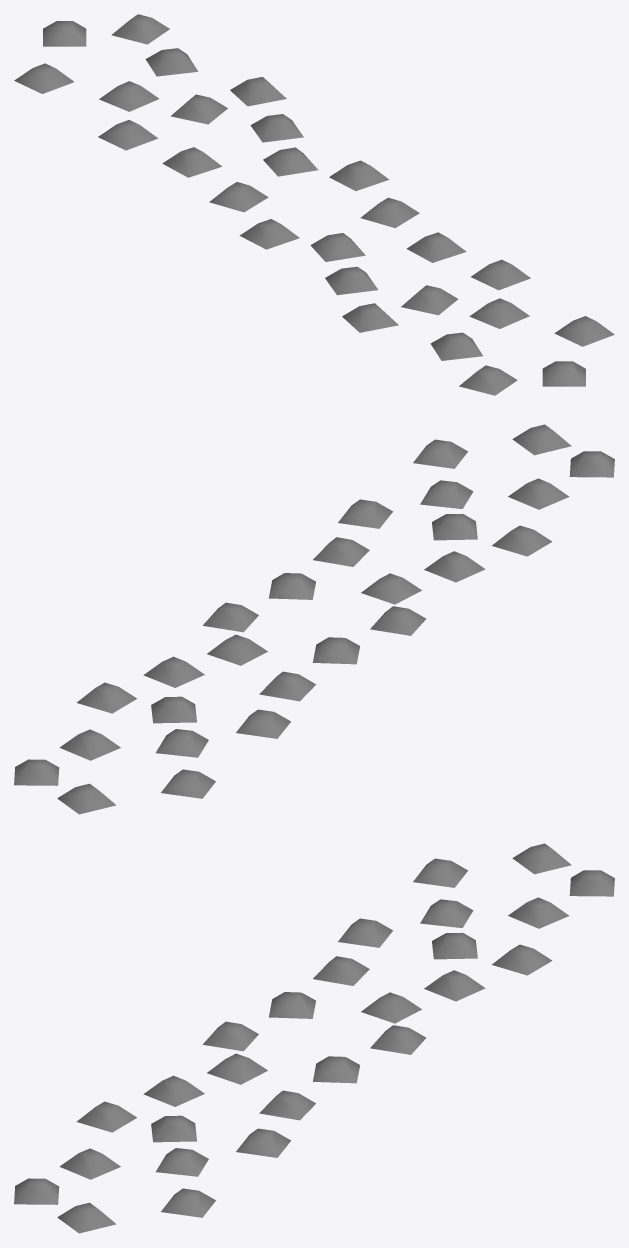
Rendered from Load_Bulk_cast_Sm.glb.
The picture shows the model from 3 angles, top to bottom: view 1: azimuth 30°, elevation 25°; view 2: azimuth 150°, elevation 25°; view 3: azimuth 330°, elevation 25°; orthographic projection.
Parts seen in each view (by area): view 1: Load_Bulk_cast_Sm; view 2: Load_Bulk_cast_Sm; view 3: Load_Bulk_cast_Sm.
Boxes of the visible parts, x1,y1,x2,y2 form: Load_Bulk_cast_Sm: (14, 14, 614, 395); Load_Bulk_cast_Sm: (14, 424, 614, 814); Load_Bulk_cast_Sm: (14, 843, 614, 1233).
Bounding box in the file's own units: 2.58 × 0.1698 × 11.79.
Materials: 1 (1 with a texture image).
